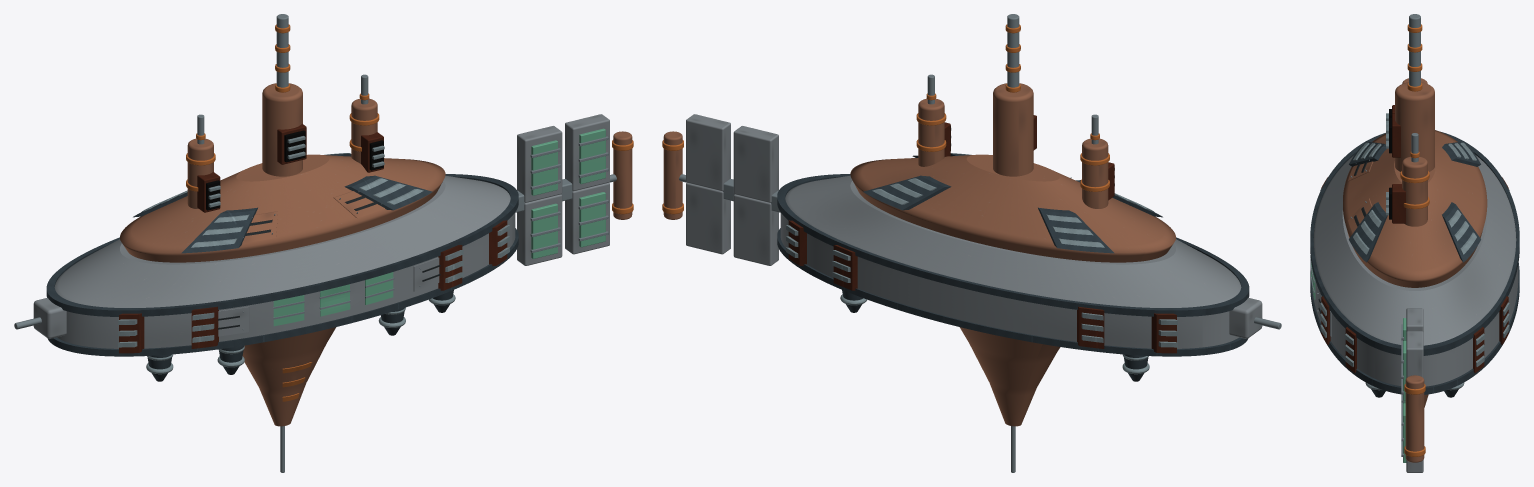
3 renders of one model, left to right at view 1: azimuth 30°, elevation 25°; view 2: azimuth 150°, elevation 25°; view 3: azimuth 270°, elevation 25°, orthographic.
Visible parts, largest first — view 1: Orbital broad casing, Orbital copper upper shell, MN5C broad perimeter band 1, Orbital tapered lower shell, MN5C broad perimeter band 0, Orbital central tower, Orbital green bank frame 0 1, Orbital green bank frame 1 1, Orbital green bank frame 0 0, Orbital bank terminal, Orbital green bank frame 1 0, MN5C upper grey equipment field 0 (+19 smaller); view 2: Orbital broad casing, Orbital copper upper shell, MN5C broad perimeter band 1, Orbital tapered lower shell, Orbital central tower, MN5C broad perimeter band 0, Orbital green bank frame 0 1, Orbital green bank frame 1 1, Orbital green bank frame 0 0, Orbital green bank frame 1 0, Orbital secondary tower -1, Orbital bank terminal (+8 smaller); view 3: Orbital broad casing, Orbital copper upper shell, MN5C broad perimeter band 1, Orbital central tower, MN5C broad perimeter band 0, Orbital bank terminal, Orbital secondary tower 1, MN5C upper grey equipment field 2, MN5C upper grey equipment field 1, Orbital green bank frame 1 1, Orbital central spire, MN5C tower equipment case 0.65 (+10 smaller).
Part boxes in pixels (x1,y1,x2,y2): Orbital broad casing: (54,175,515,348); Orbital copper upper shell: (120,154,445,262); MN5C broad perimeter band 1: (46,174,518,316); Orbital tapered lower shell: (242,327,336,426); MN5C broad perimeter band 0: (47,228,518,356); Orbital central tower: (262,83,302,176); Orbital green bank frame 0 1: (517,126,562,202); Orbital green bank frame 1 1: (565,114,609,191); Orbital green bank frame 0 0: (517,194,562,265); Orbital bank terminal: (613,131,632,219); Orbital green bank frame 1 0: (565,182,609,254); MN5C upper grey equipment field 0: (181,207,257,253); Orbital broad casing: (780,175,1241,348); Orbital copper upper shell: (850,154,1175,262); MN5C broad perimeter band 1: (777,174,1249,316); Orbital tapered lower shell: (959,327,1060,426); Orbital central tower: (993,83,1033,176); MN5C broad perimeter band 0: (777,228,1248,356); Orbital green bank frame 0 1: (733,126,778,202); Orbital green bank frame 1 1: (686,114,730,191); Orbital green bank frame 0 0: (733,194,778,265); Orbital green bank frame 1 0: (686,182,730,254); Orbital secondary tower -1: (1082,138,1108,208); Orbital bank terminal: (663,131,682,219); Orbital broad casing: (1312,155,1518,386); Orbital copper upper shell: (1343,130,1487,287); MN5C broad perimeter band 1: (1310,131,1519,355); Orbital central tower: (1395,82,1434,171); MN5C broad perimeter band 0: (1310,263,1519,394); Orbital bank terminal: (1405,375,1424,462); Orbital secondary tower 1: (1402,156,1427,226); MN5C upper grey equipment field 2: (1442,202,1480,262); MN5C upper grey equipment field 1: (1349,202,1387,262); Orbital green bank frame 1 1: (1406,331,1423,377); Orbital central spire: (1409,14,1420,86); MN5C tower equipment case 0.65: (1392,184,1405,223).
Size of the model in its own units: 4.89 by 3.46 by 1.46.
Materials: 10 (6 with a texture image).
